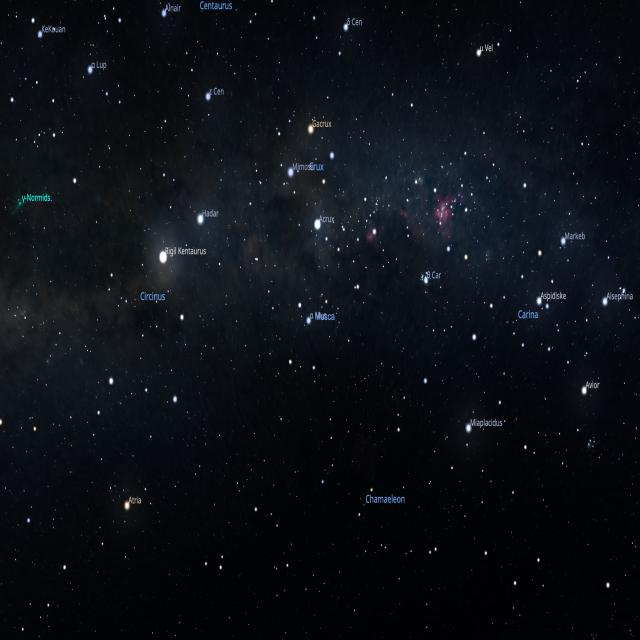Musca: (296, 280, 358, 374)
